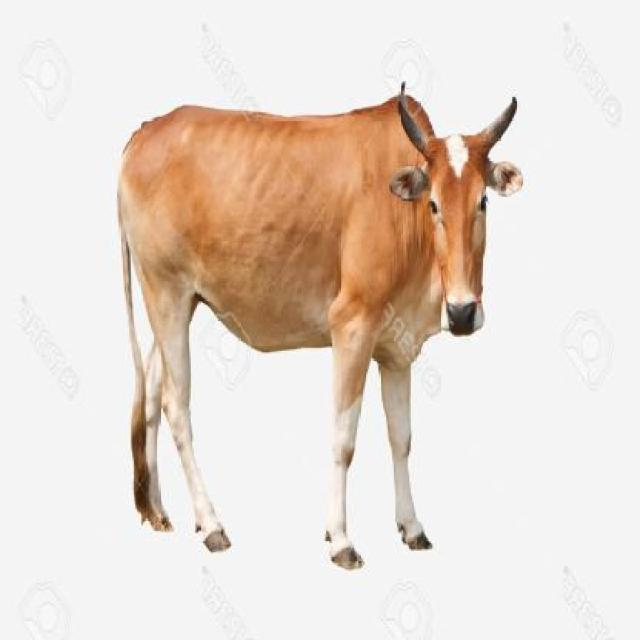Cow: (112, 56, 523, 566)
